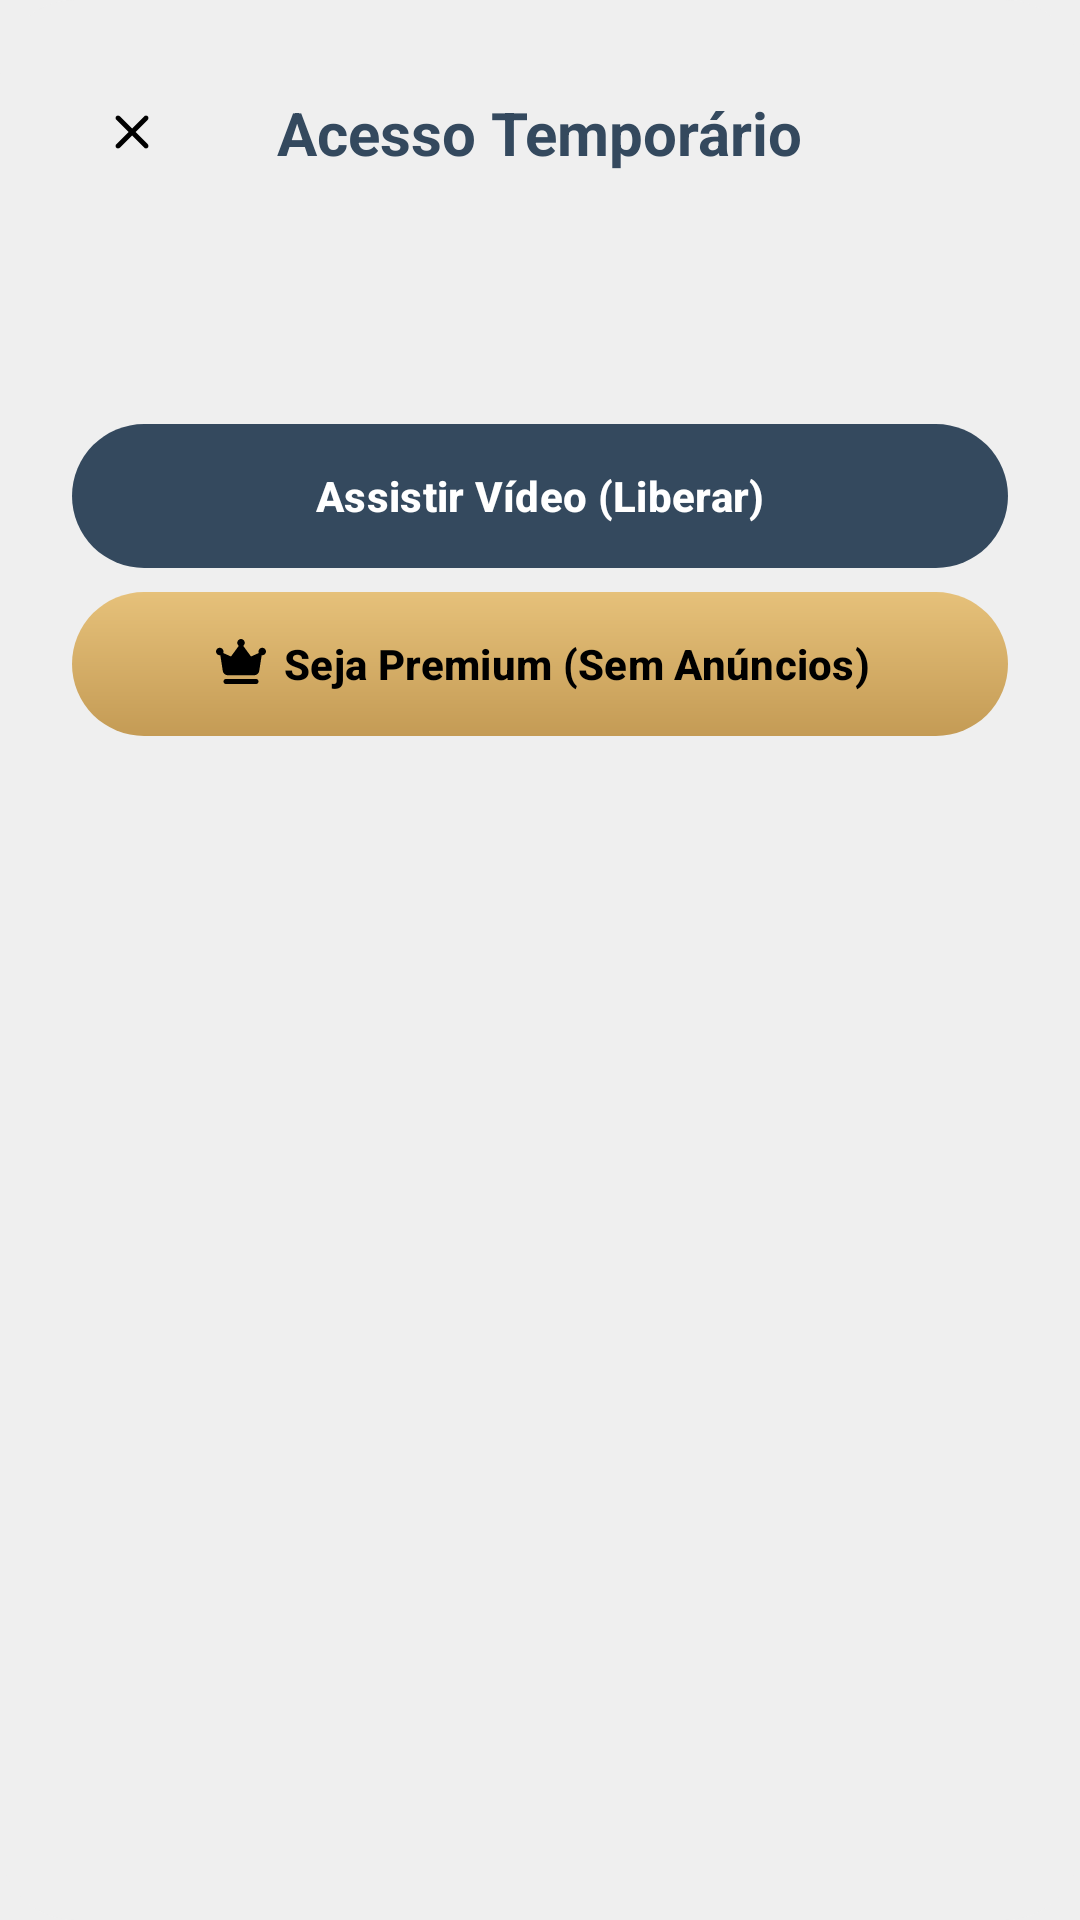

Icons on this 1080w x 1920h Android screen, each with the point to tap as (x=x, y=y):
close: (x=132, y=132)
